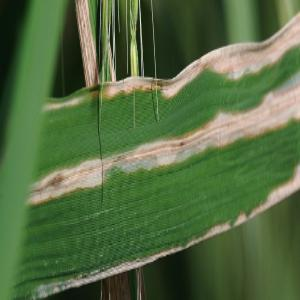Hawar Daun: (186, 101, 259, 161), (249, 76, 300, 142), (212, 37, 263, 83), (66, 150, 111, 195), (263, 162, 300, 213)
